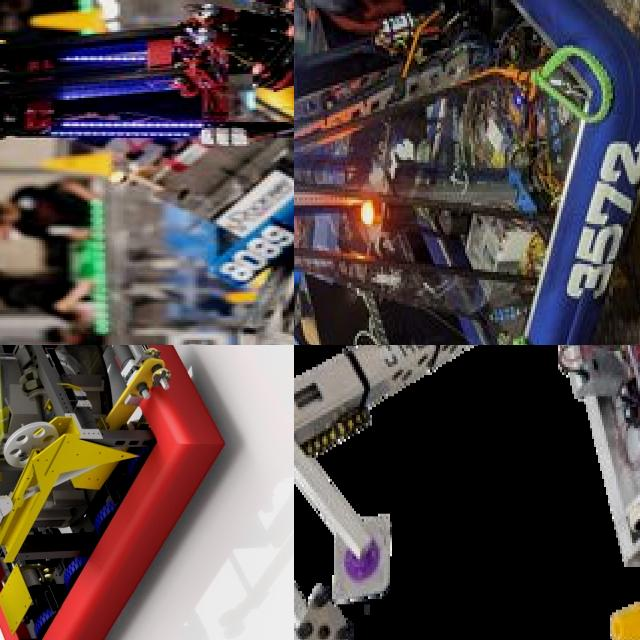FRC-Robots: (294, 0, 633, 345), (294, 345, 640, 640), (0, 345, 227, 640), (0, 0, 294, 209)
